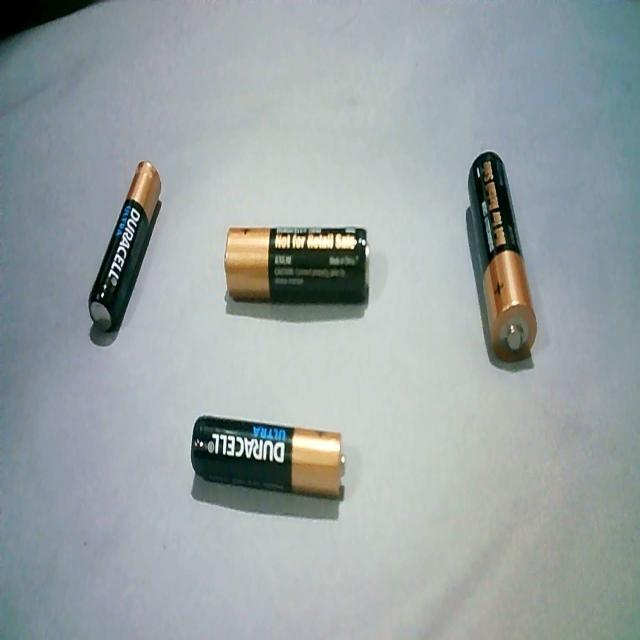AA: (462, 147, 542, 371), (222, 216, 372, 312)
AAA: (186, 408, 350, 510), (82, 156, 165, 338)
